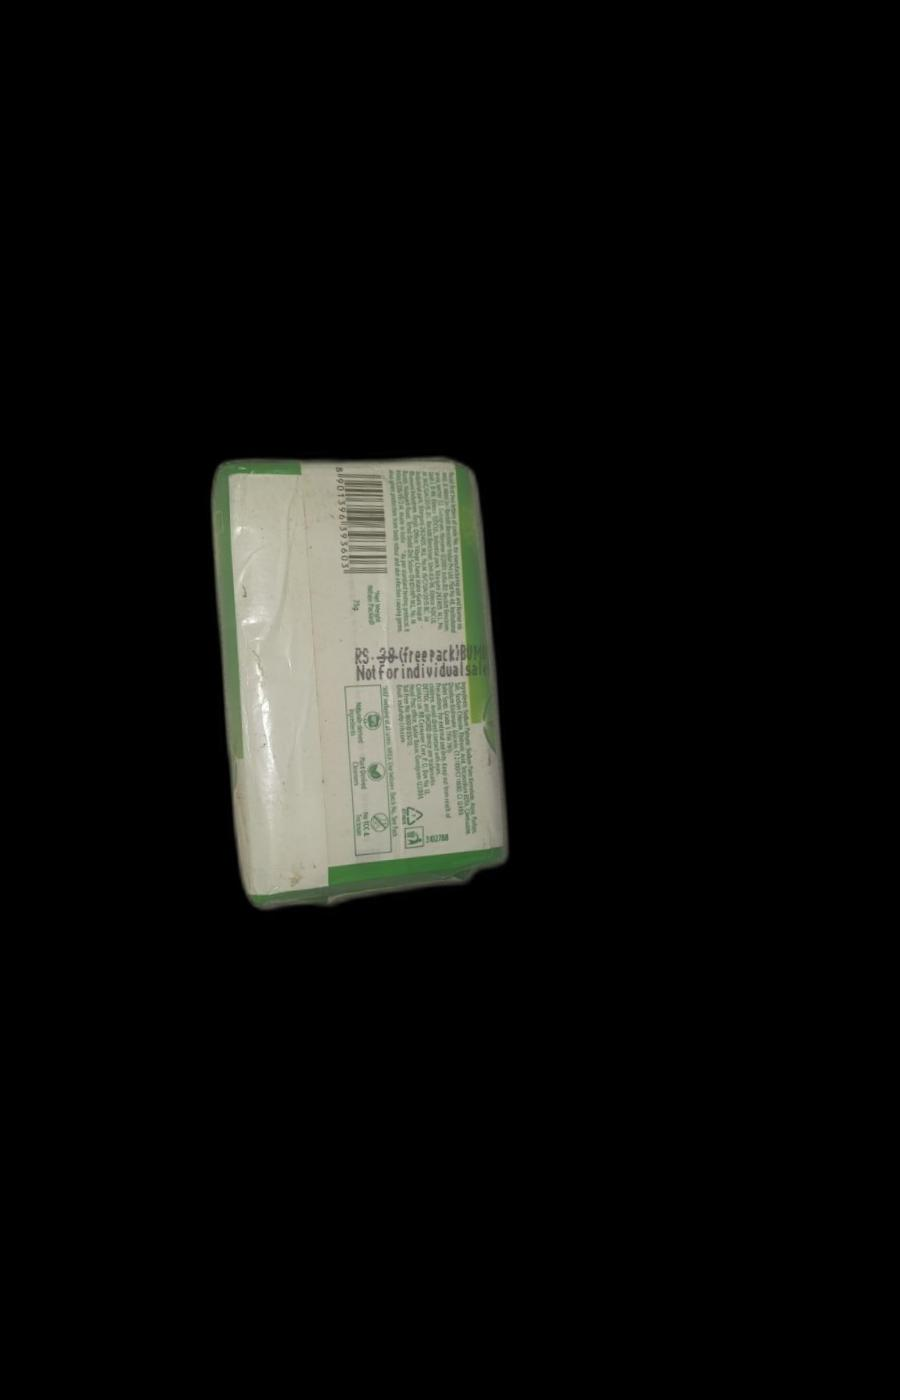Dettol Bathing Soap Bar - Original 125g: (182, 426, 542, 915)
